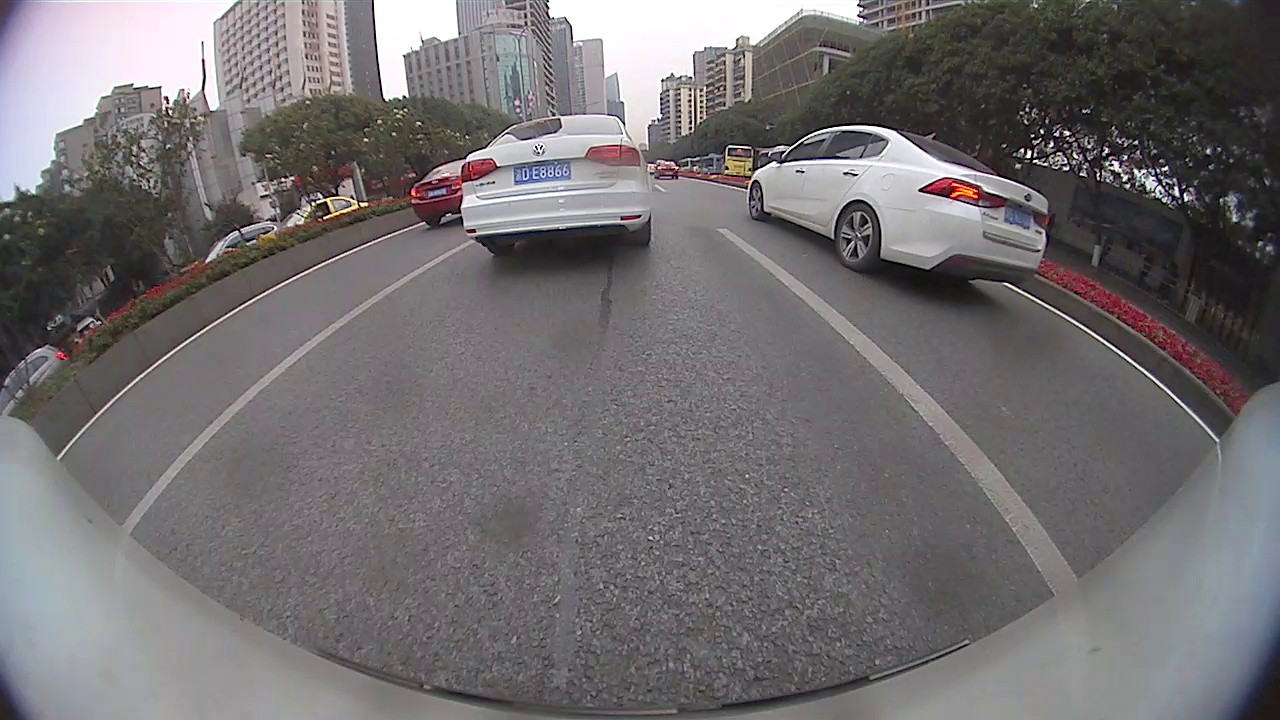bus: (720, 144, 754, 177)
car: (744, 122, 1048, 286), (459, 113, 652, 257), (410, 154, 474, 228), (1, 344, 67, 412), (282, 195, 366, 234), (200, 224, 282, 262), (652, 158, 680, 183)
front: (749, 183, 765, 221)
rear: (833, 200, 882, 273)
